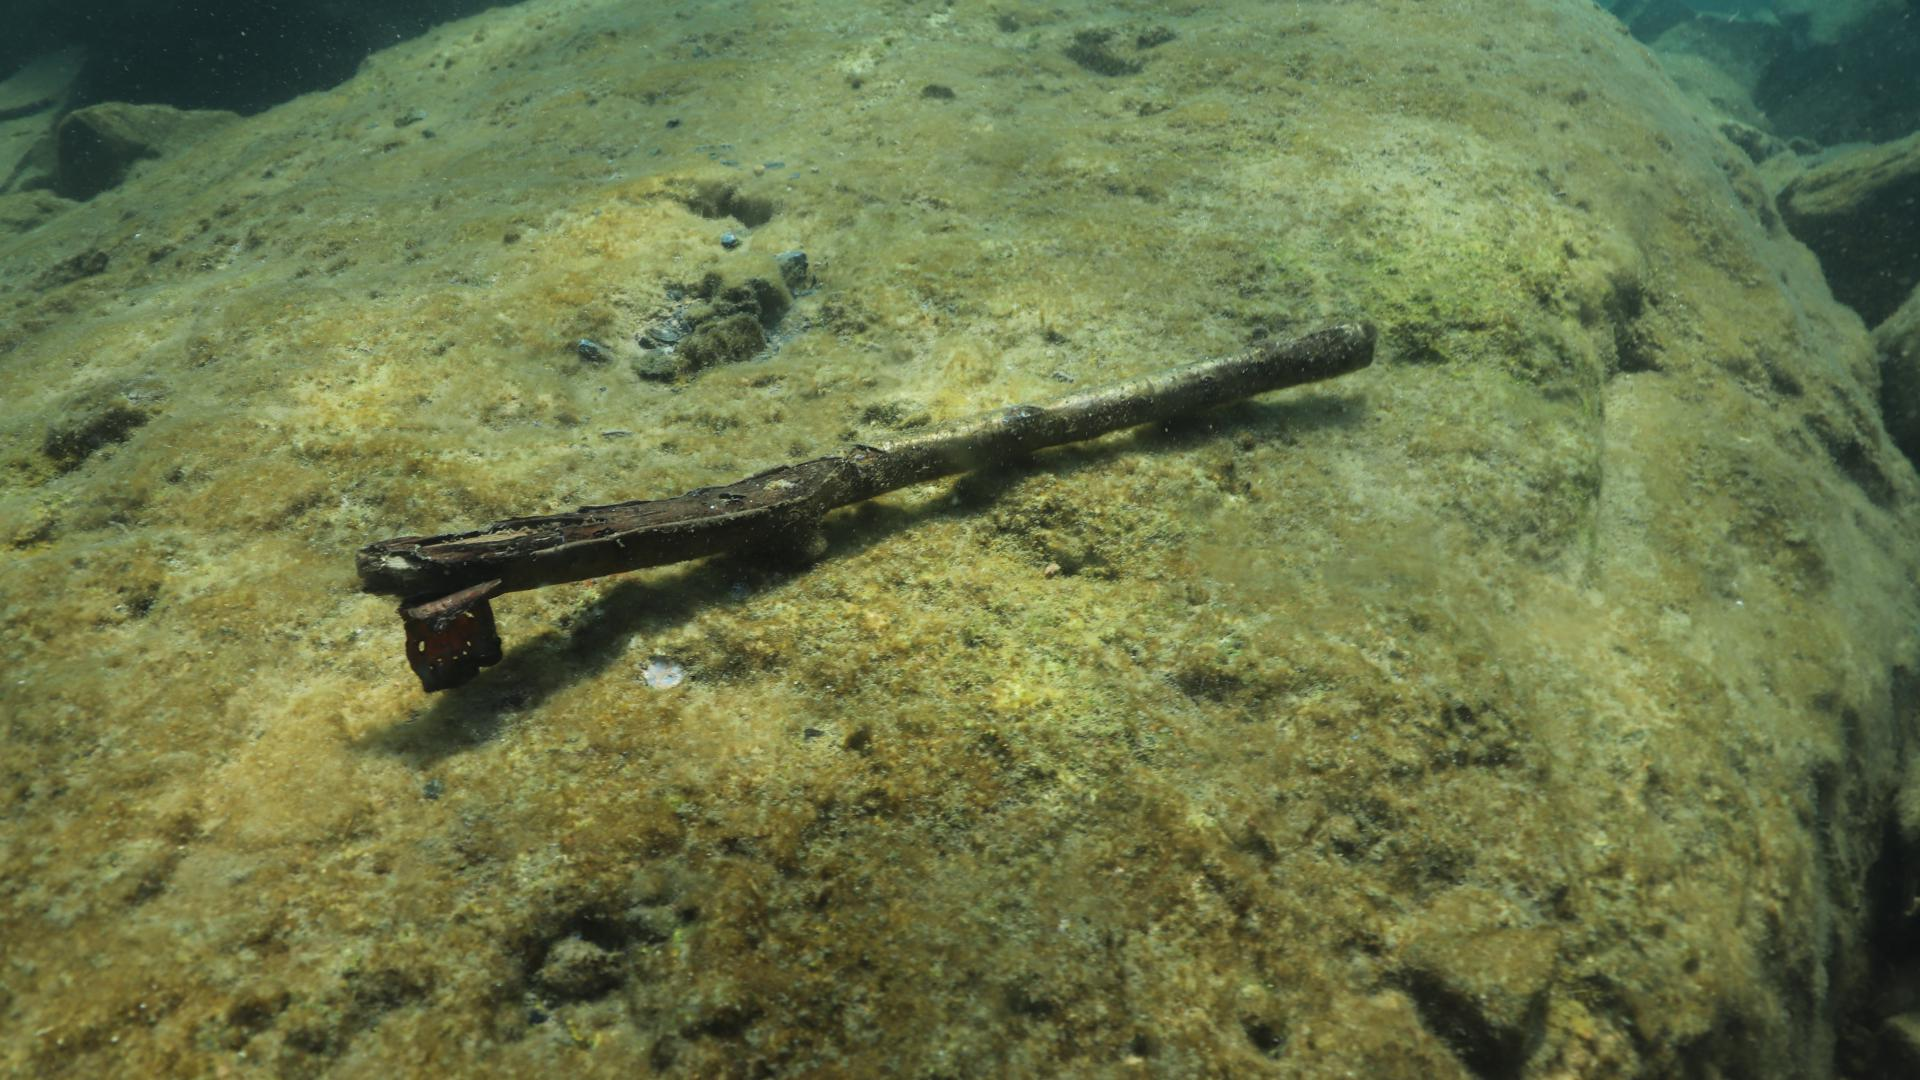wood: (352, 316, 1379, 595)
